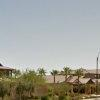Palm tree: (34, 64, 83, 84)
